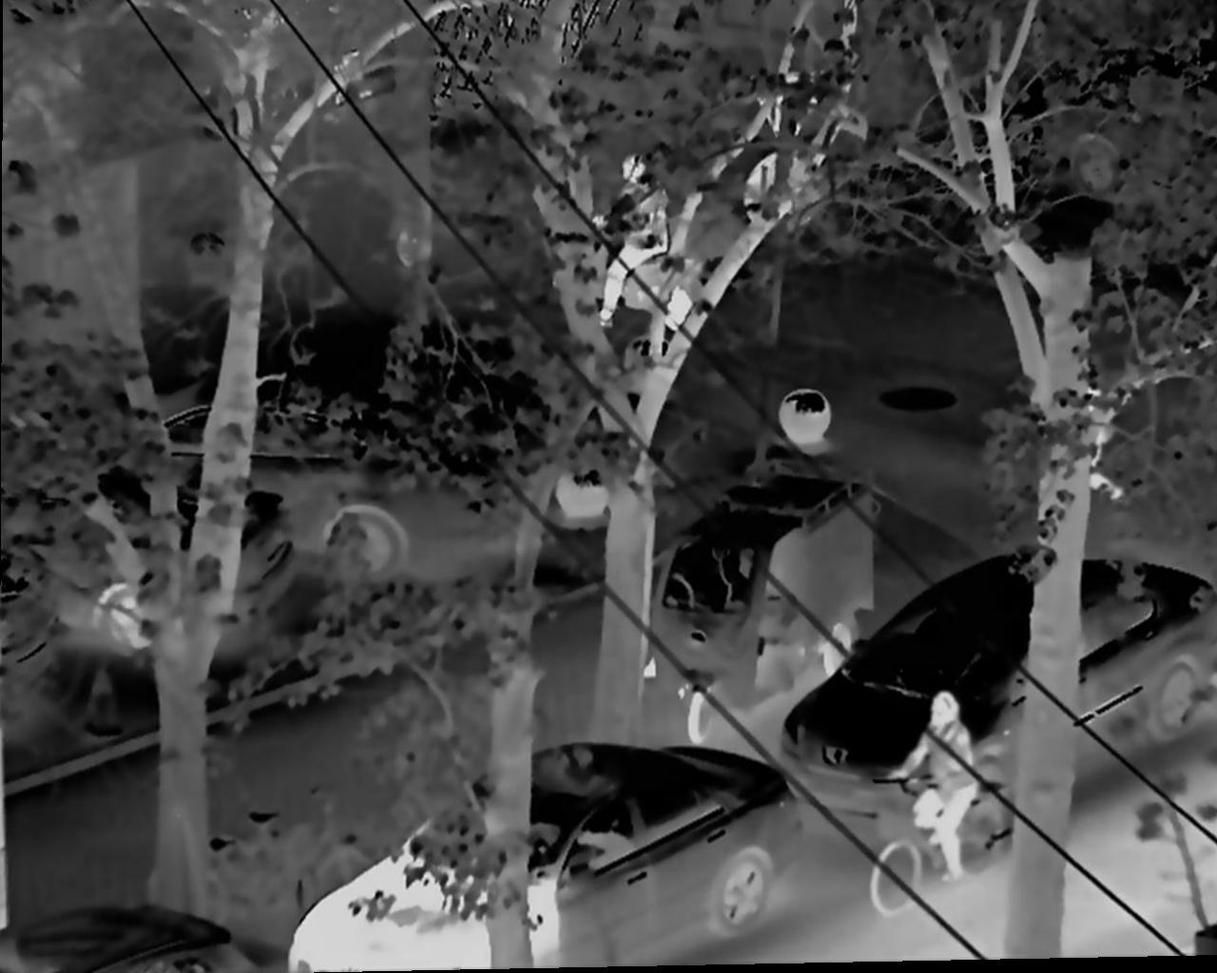person: (887, 686, 975, 876), (597, 157, 675, 341)
